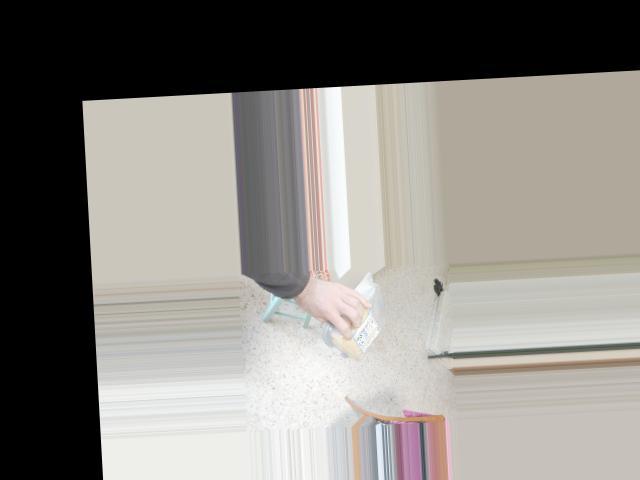cheese: (335, 271, 383, 372)
